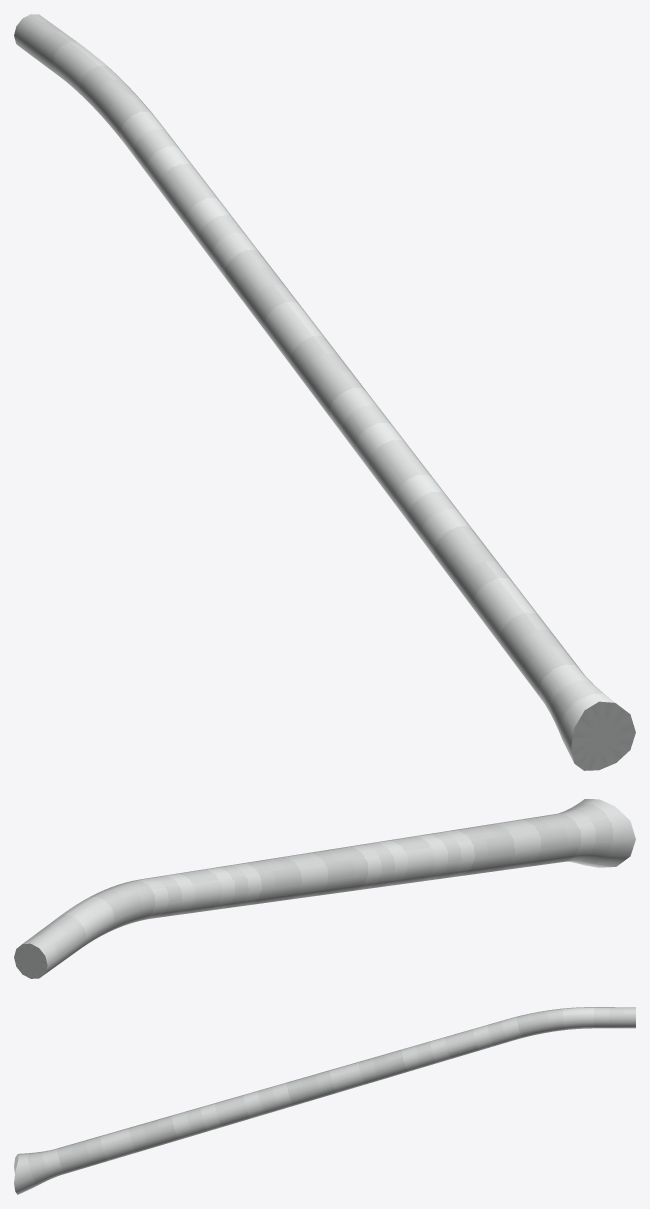
The model's file is luminairearm_caltrans12ftstraight_inv.obj.
3 views of the same model, one above another, from view 1: azimuth 30°, elevation 25°; view 2: azimuth 150°, elevation 25°; view 3: azimuth 270°, elevation 25° (orthographic). The views are drawn at different scales.
Parts seen in each view (by area): view 1: luminairearm_caltrans12ftstraight_inv; view 2: luminairearm_caltrans12ftstraight_inv; view 3: luminairearm_caltrans12ftstraight_inv.
Boxes of the visible parts, bbox=[...] form: luminairearm_caltrans12ftstraight_inv: bbox=[14, 14, 635, 770]; luminairearm_caltrans12ftstraight_inv: bbox=[14, 799, 635, 978]; luminairearm_caltrans12ftstraight_inv: bbox=[14, 1007, 635, 1194].
Size of the model in its own units: 0.0654 by 0.328 by 1.
